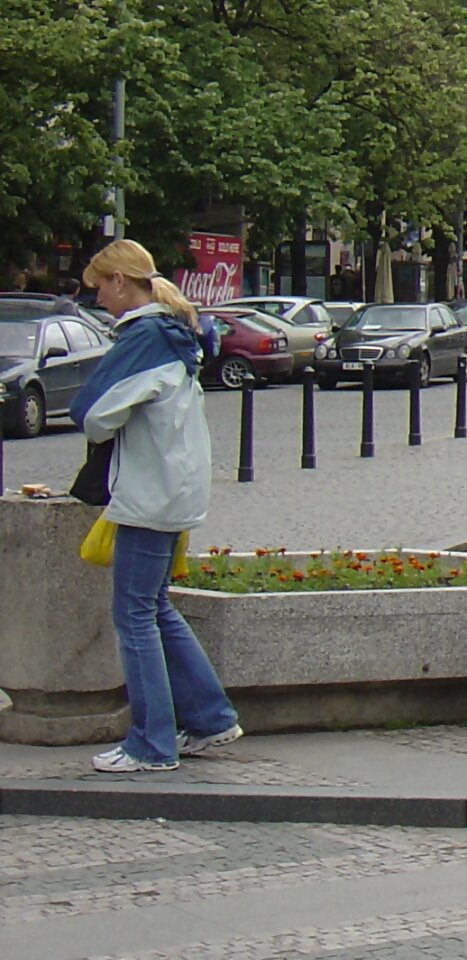person: (46, 238, 257, 778)
